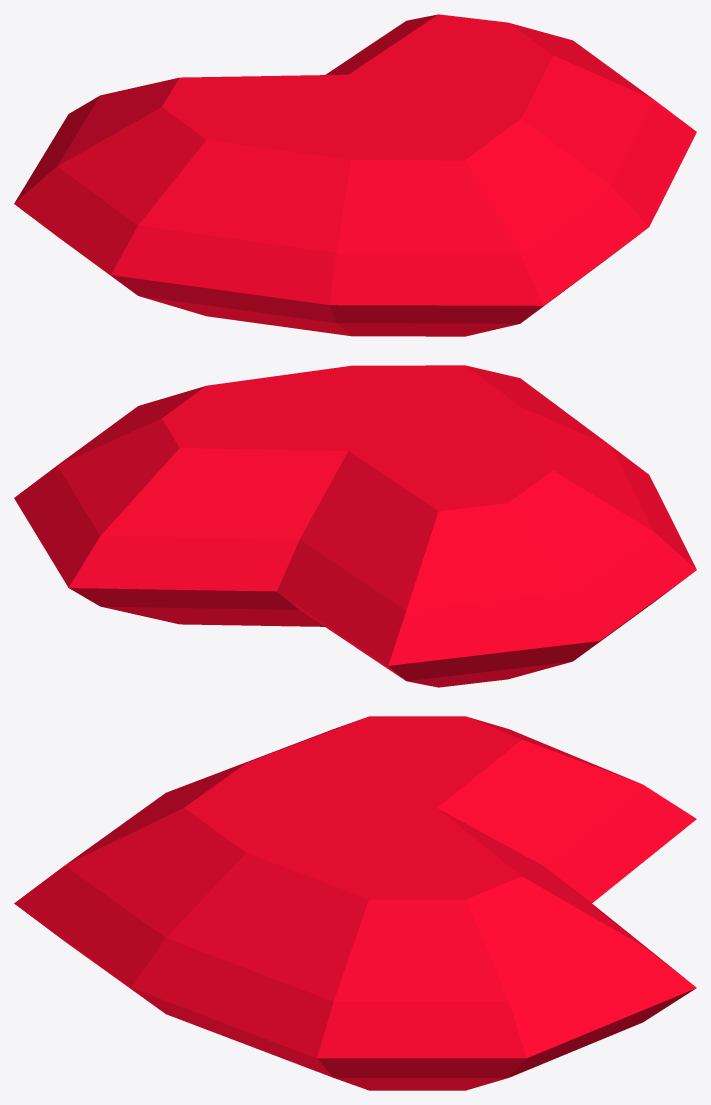
Rendered from Heart.fbx.
3 views of the same model, one above another, from view 1: azimuth 30°, elevation 25°; view 2: azimuth 150°, elevation 25°; view 3: azimuth 270°, elevation 25° (orthographic). The views are drawn at different scales.
Parts seen in each view (by area): view 1: _BaseHeart; view 2: _BaseHeart; view 3: _BaseHeart.
Part boxes in pixels (box(x1,y1,x2,y2)): _BaseHeart: box(14, 14, 696, 336); _BaseHeart: box(14, 365, 696, 687); _BaseHeart: box(14, 716, 696, 1090).
Size of the model in its own units: 23.65 by 6.8 by 22.04.
